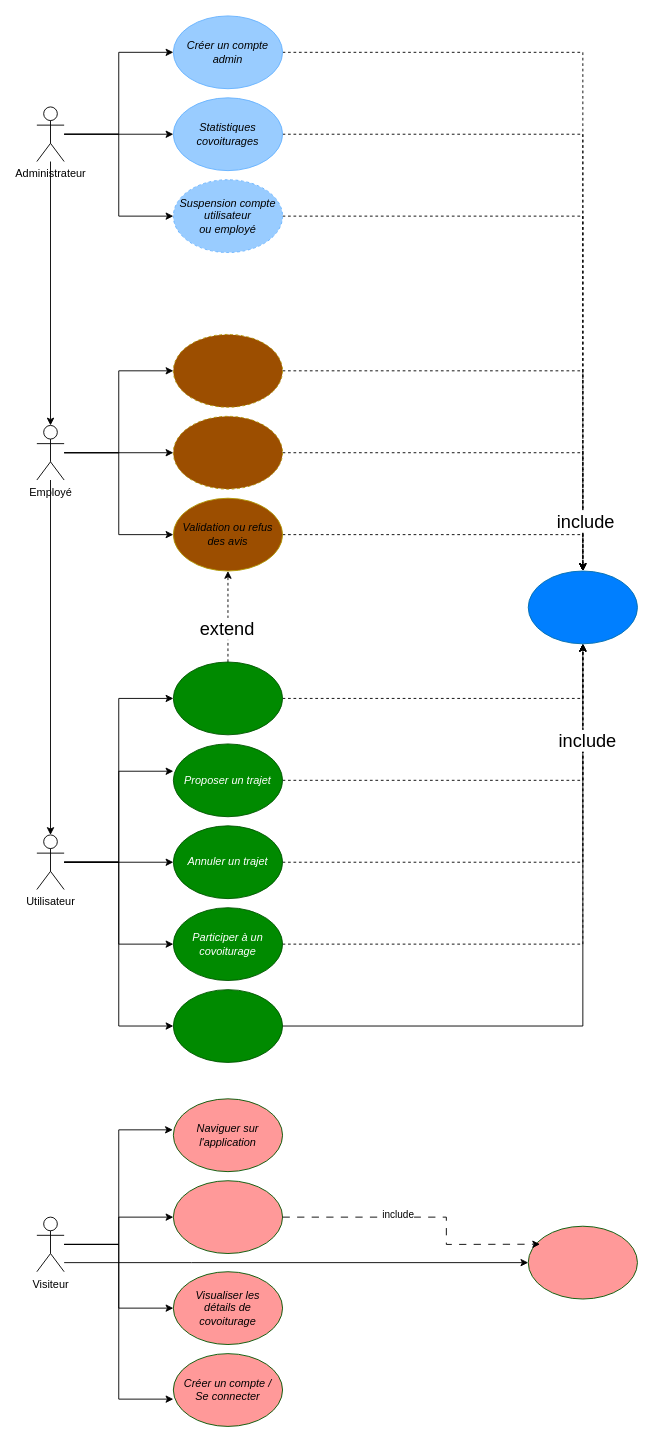
The diagram is 653 pixels wide and 1442 high, and some of its shapes have lost their labels. The box of each missing label's shape, as (x1, y1, x2, y2) in pixels:
Chercher un covoiturage: (172, 1180, 283, 1254)
Consulter l'historique des trajets: (172, 989, 283, 1062)
Déposer un avis: (172, 661, 283, 735)
Filter les covoiturages: (527, 1225, 637, 1299)
Gérer les litiges: (172, 334, 283, 407)
Se connecter: (527, 570, 637, 644)
Visibilité des covoiturages: (172, 415, 283, 489)
